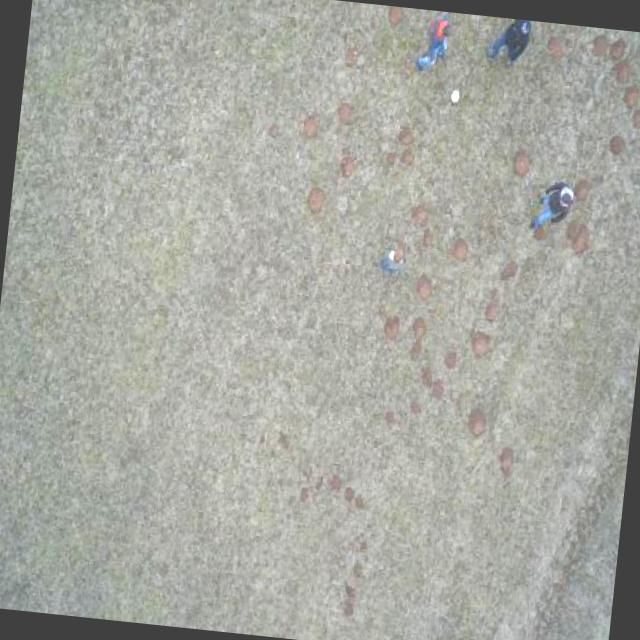Person: (524, 175, 587, 241), (407, 9, 457, 79), (478, 16, 536, 72)
